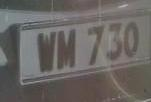0: (121, 18, 143, 62)
3: (106, 19, 127, 67)
7: (83, 22, 108, 71)
M: (55, 27, 77, 71)
W: (35, 29, 57, 74)
